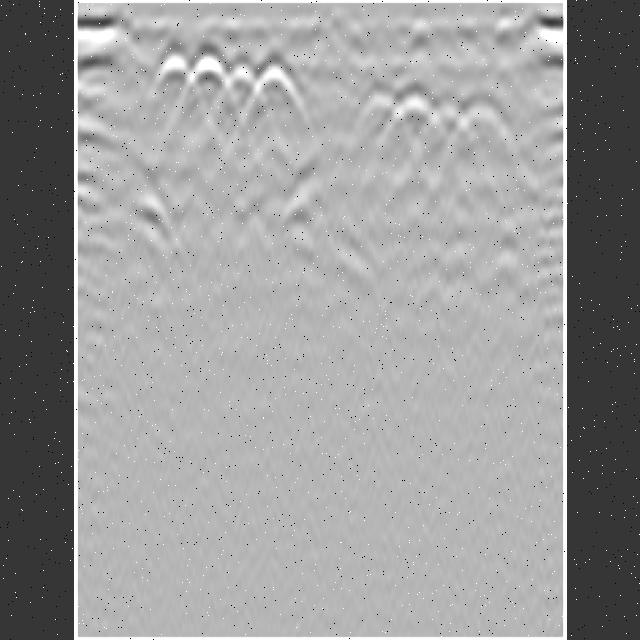hyperbola: (416, 99, 482, 161), (346, 90, 406, 146), (457, 98, 513, 156), (184, 52, 232, 104), (215, 64, 263, 116), (392, 92, 438, 144), (251, 61, 301, 108), (152, 55, 196, 101)
